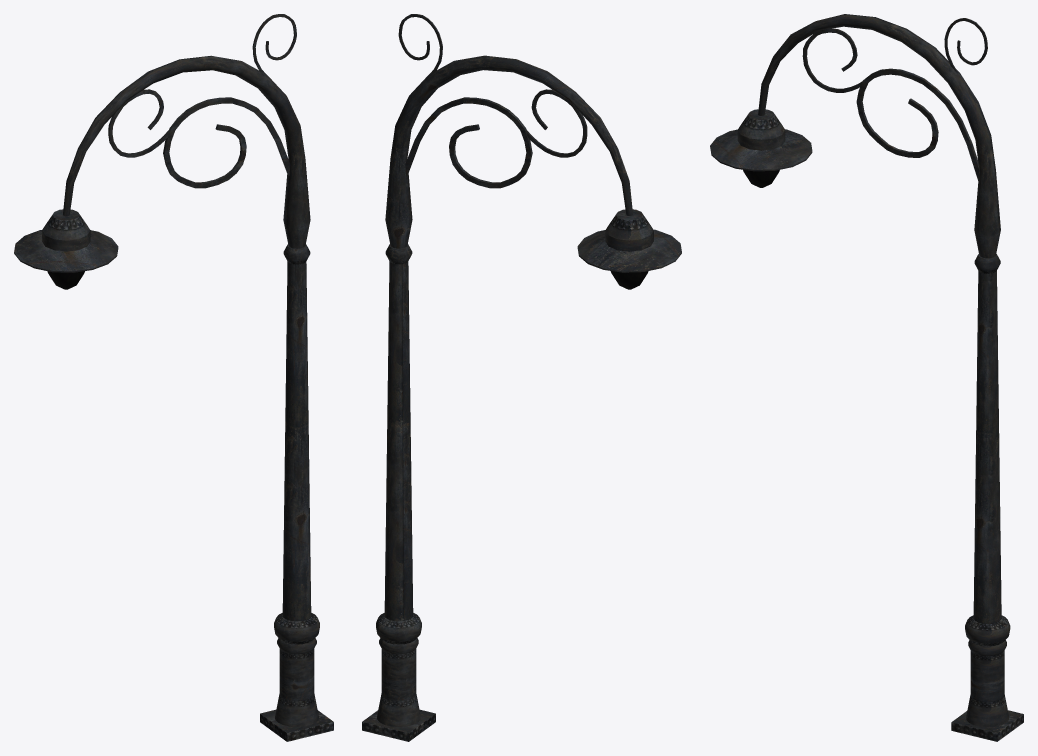
The model's file is streetlight_ground.DAE.
3 renders of one model, left to right at view 1: azimuth 30°, elevation 25°; view 2: azimuth 150°, elevation 25°; view 3: azimuth 330°, elevation 25°, orthographic.
Visible parts, largest first — view 1: Box011; view 2: Box011; view 3: Box011.
Part boxes in pixels (x1,y1,x2,y2): Box011: (14,14,333,741); Box011: (362,14,681,741); Box011: (710,14,1023,741).
Size of the model in its own units: 2.24 by 5.12 by 0.6813.
